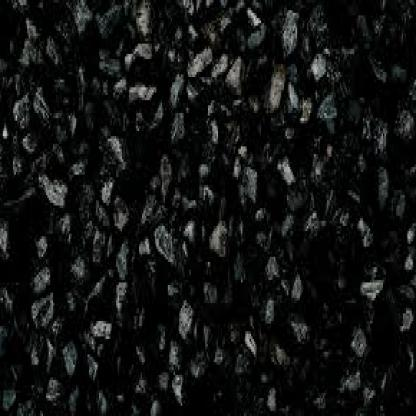Sedimentary_coal: (86, 198, 202, 364)
